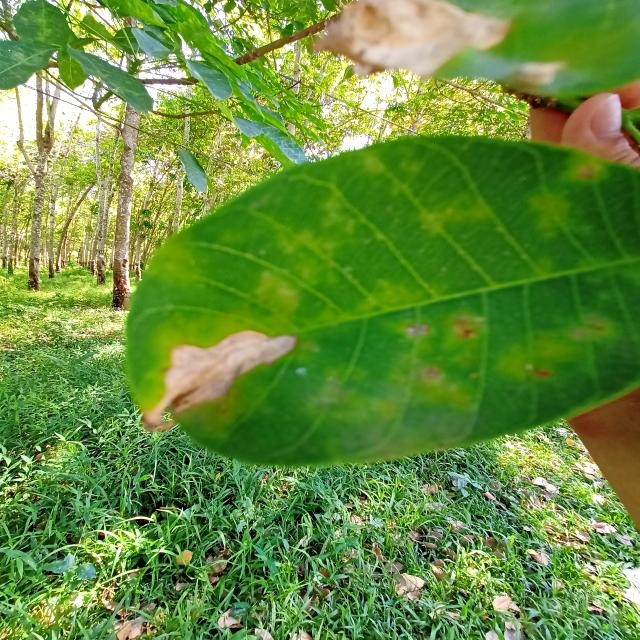Leaf-Blight: (323, 0, 510, 79), (144, 331, 294, 428)
